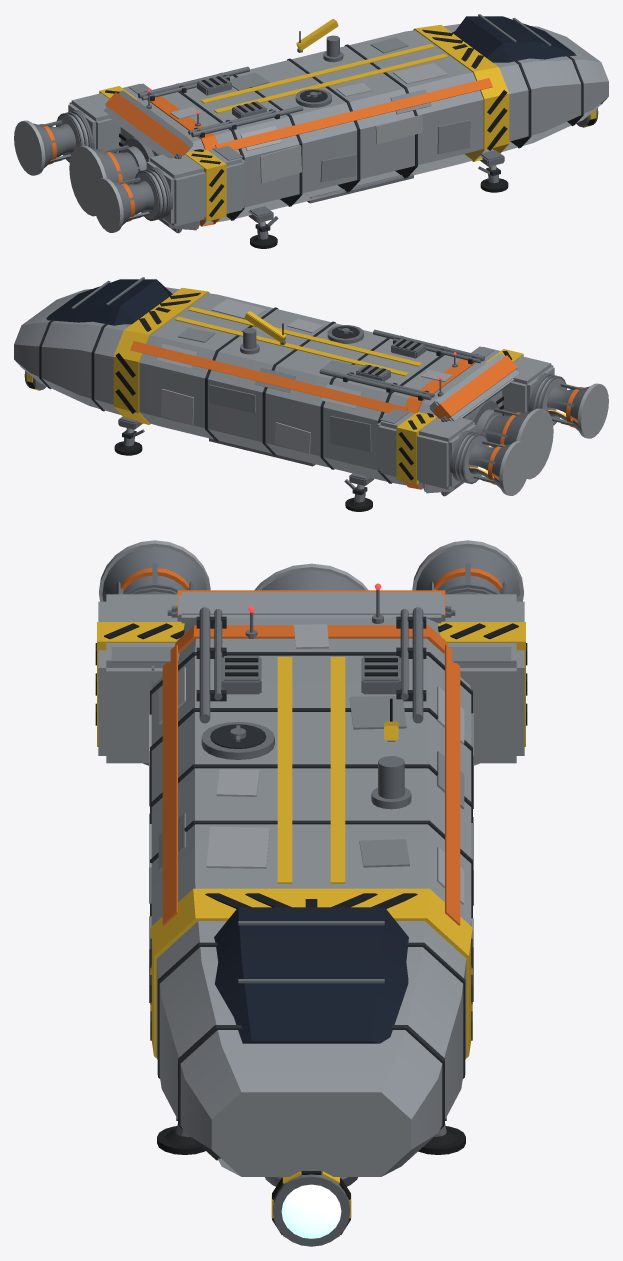
The model's file is hull_miner.glb.
3 views of the same model, one above another, from view 1: azimuth 30°, elevation 25°; view 2: azimuth 150°, elevation 25°; view 3: azimuth 270°, elevation 25° (orthographic). The views are drawn at different scales.
Visible parts, largest first — view 1: hull_miner_miner_plate, hull_miner_miner_steel, hull_miner_miner_patch_light, hull_miner_hazard_yellow, hull_miner_outposts_orange, hull_miner_miner_patch_dark, hull_miner_canopy_glass, hull_miner_panel_seam, hull_miner_hazard_black; view 2: hull_miner_miner_plate, hull_miner_miner_steel, hull_miner_miner_patch_light, hull_miner_hazard_yellow, hull_miner_outposts_orange, hull_miner_miner_patch_dark, hull_miner_canopy_glass, hull_miner_panel_seam, hull_miner_hazard_black; view 3: hull_miner_miner_plate, hull_miner_canopy_glass, hull_miner_miner_steel, hull_miner_hazard_yellow, hull_miner_outposts_orange, hull_miner_panel_seam, hull_miner_miner_patch_light, hull_miner_miner_patch_dark, hull_miner_hazard_black, hull_miner_laser_lens.
Boxes of the visible parts, x1=… form: hull_miner_miner_plate: x1=56, y1=24, x2=608, y2=230; hull_miner_miner_steel: x1=33, y1=14, x2=598, y2=239; hull_miner_miner_patch_light: x1=14, y1=63, x2=448, y2=232; hull_miner_hazard_yellow: x1=99, y1=19, x2=596, y2=221; hull_miner_outposts_orange: x1=39, y1=78, x2=492, y2=226; hull_miner_miner_patch_dark: x1=120, y1=37, x2=470, y2=182; hull_miner_canopy_glass: x1=452, y1=16, x2=576, y2=62; hull_miner_panel_seam: x1=144, y1=44, x2=583, y2=232; hull_miner_hazard_black: x1=105, y1=29, x2=595, y2=248; hull_miner_miner_plate: x1=14, y1=287, x2=566, y2=493; hull_miner_miner_steel: x1=24, y1=277, x2=589, y2=502; hull_miner_miner_patch_light: x1=156, y1=299, x2=608, y2=495; hull_miner_hazard_yellow: x1=26, y1=288, x2=523, y2=484; hull_miner_outposts_orange: x1=130, y1=341, x2=583, y2=489; hull_miner_miner_patch_dark: x1=178, y1=327, x2=502, y2=451; hull_miner_canopy_glass: x1=46, y1=279, x2=172, y2=325; hull_miner_panel_seam: x1=39, y1=307, x2=478, y2=495; hull_miner_hazard_black: x1=27, y1=292, x2=512, y2=511; hull_miner_miner_plate: x1=98, y1=592, x2=524, y2=1176; hull_miner_canopy_glass: x1=214, y1=907, x2=408, y2=1043; hull_miner_miner_steel: x1=102, y1=546, x2=520, y2=1246; hull_miner_hazard_yellow: x1=97, y1=622, x2=525, y2=1237; hull_miner_outposts_orange: x1=120, y1=568, x2=502, y2=925; hull_miner_panel_seam: x1=150, y1=616, x2=472, y2=1160; hull_miner_miner_patch_light: x1=99, y1=540, x2=523, y2=1001; hull_miner_miner_patch_dark: x1=111, y1=647, x2=511, y2=1002; hull_miner_hazard_black: x1=95, y1=623, x2=527, y2=1234; hull_miner_laser_lens: x1=281, y1=1184, x2=341, y2=1238.
Size of the model in its own units: 18.18 by 5.16 by 6.48.
